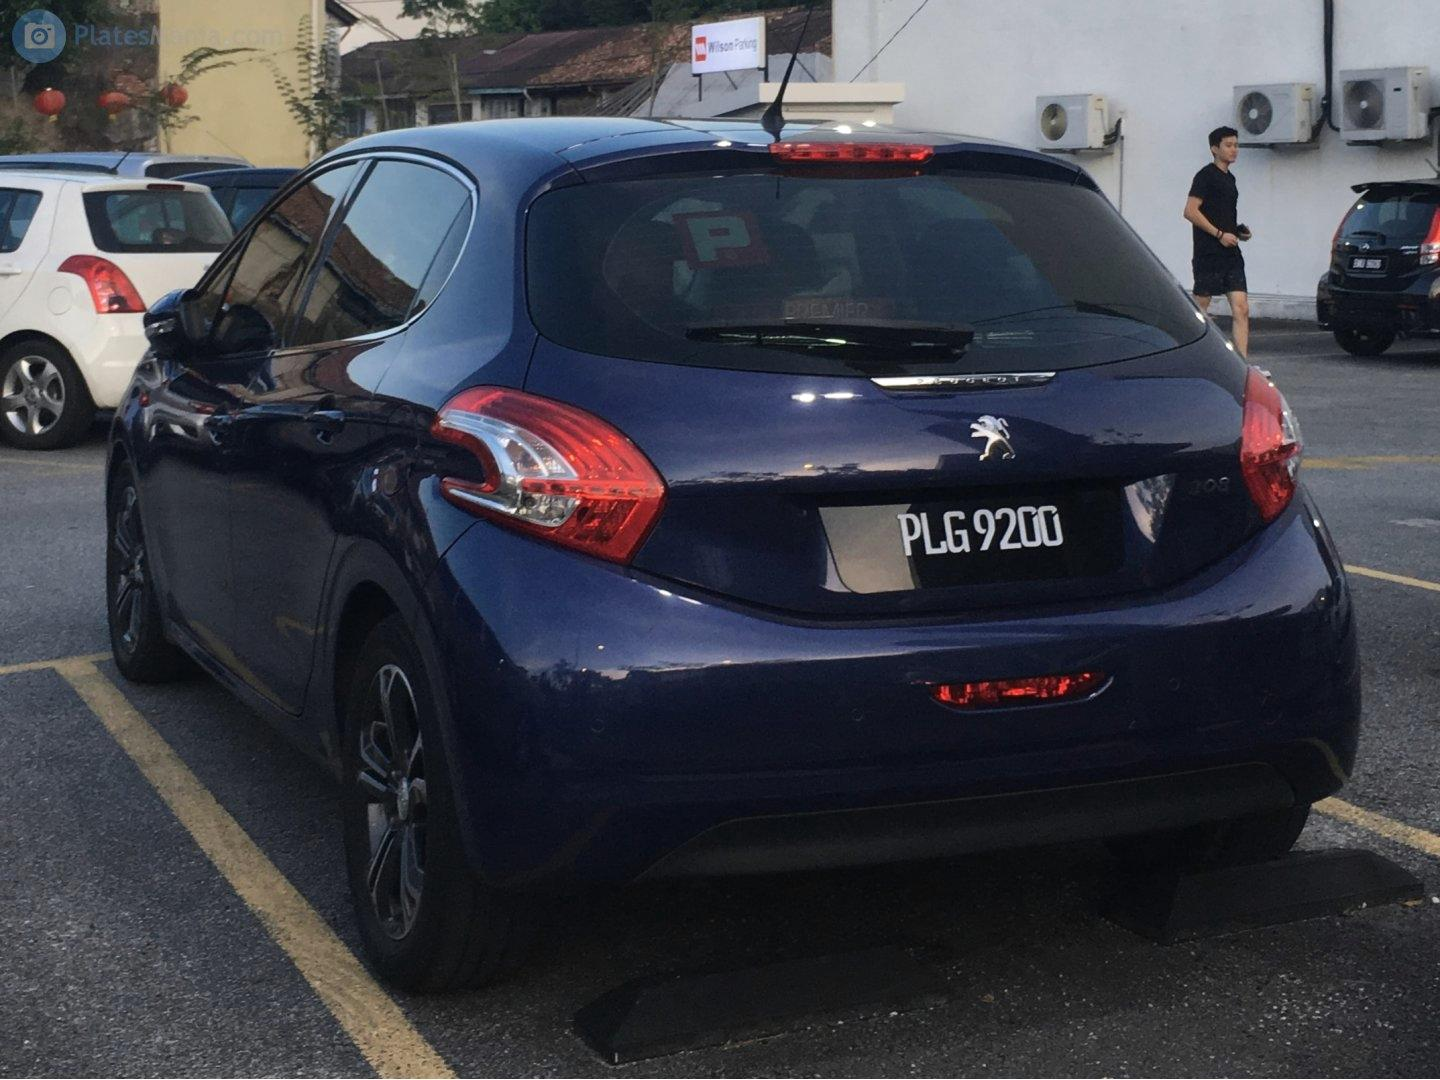License Plate: (858, 489, 1119, 594)
